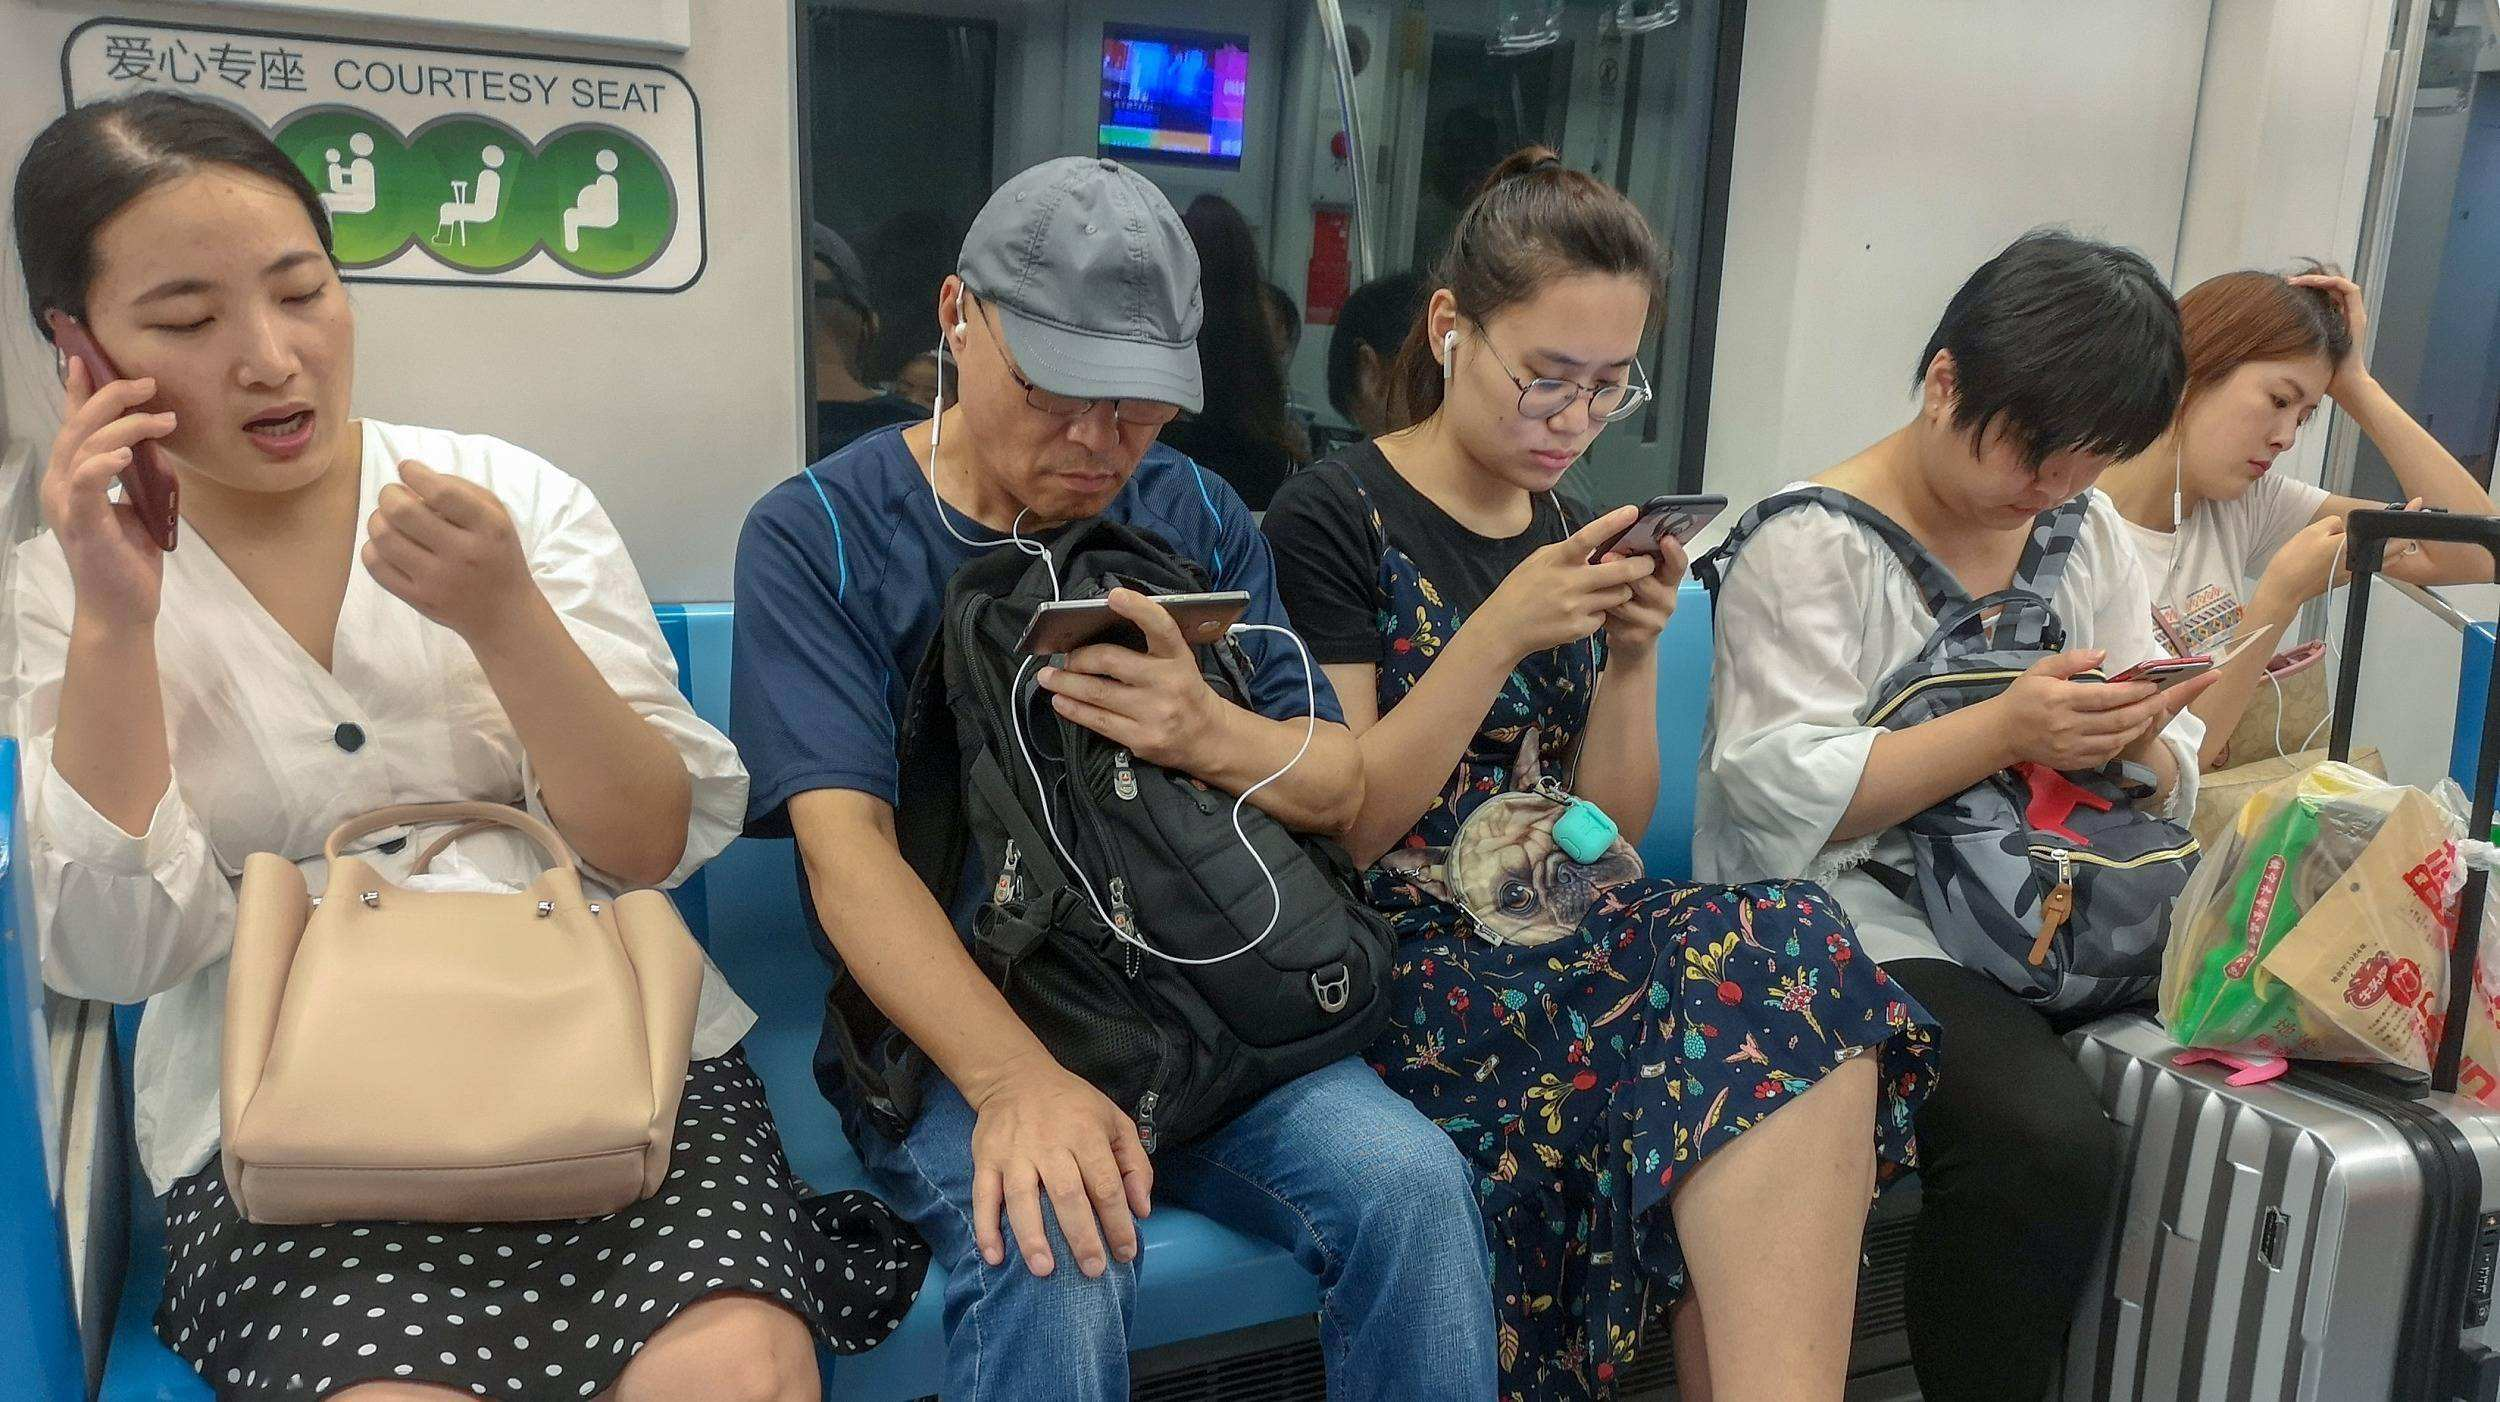calling: (41, 311, 197, 609)
reading: (1447, 479, 1731, 681), (1003, 575, 1259, 781), (2000, 626, 2225, 776)
